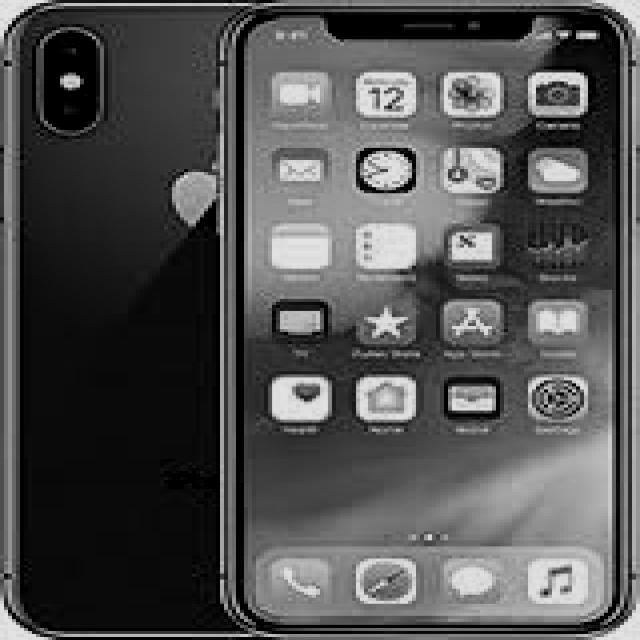fake: (220, 3, 632, 640)
